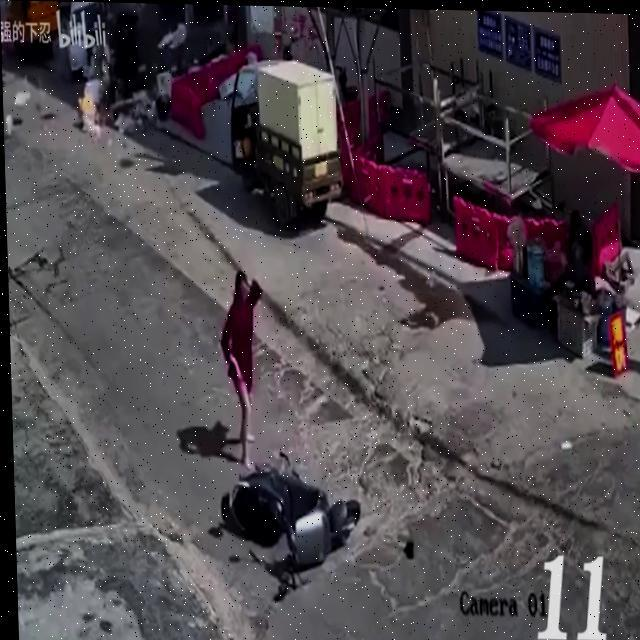multiple_accident: (200, 9, 472, 239), (192, 448, 373, 618)
